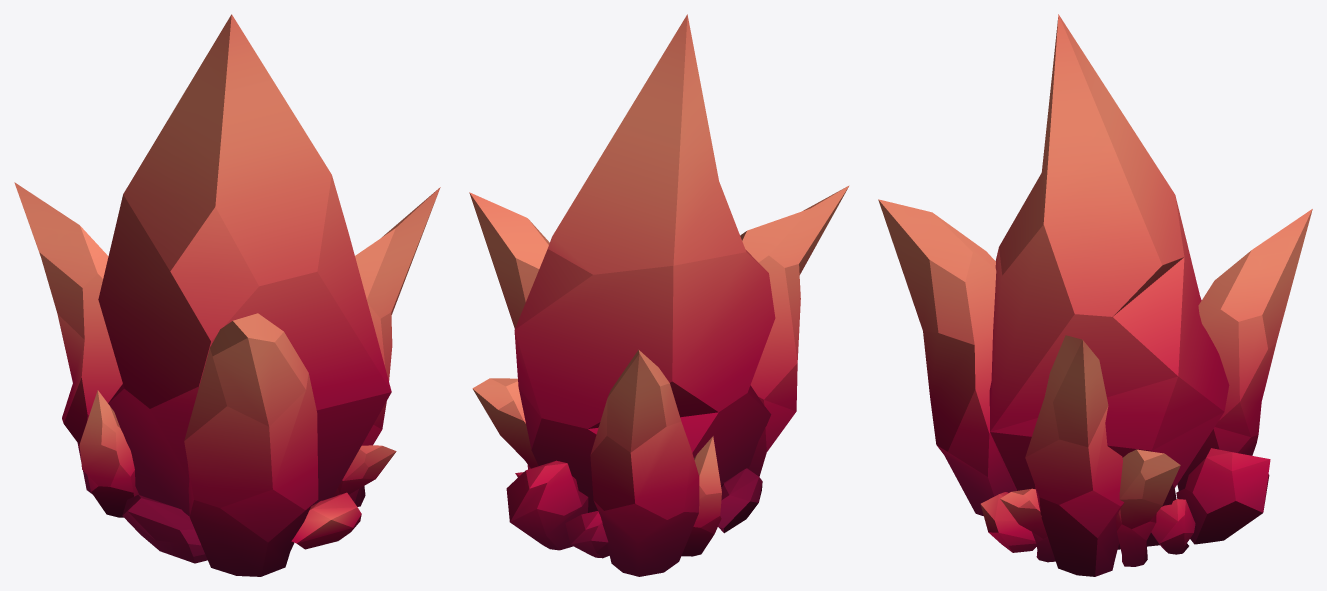
The model's file is crystal_1.fbx.
3 renders of one model, left to right at view 1: azimuth 30°, elevation 25°; view 2: azimuth 150°, elevation 25°; view 3: azimuth 270°, elevation 25°, orthographic. The views are drawn at different scales.
Visible parts, largest first — view 1: crystal_1; view 2: crystal_1; view 3: crystal_1.
Boxes of the visible parts, <box> form: crystal_1: <box>14,14,440,576</box>; crystal_1: <box>469,14,849,576</box>; crystal_1: <box>878,14,1312,576</box>.
Size of the model in its own units: 0.9517 by 1.5 by 1.2.
